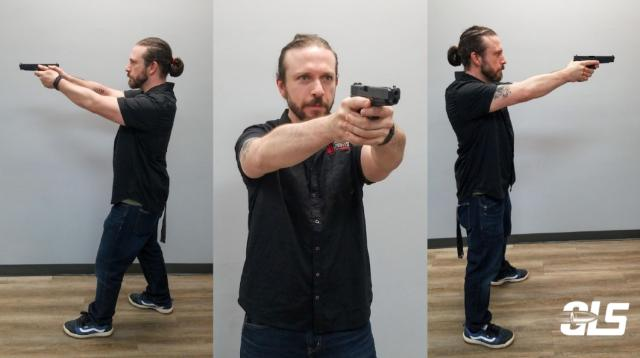handgun: (347, 77, 403, 127), (17, 57, 63, 85), (572, 52, 618, 76)
